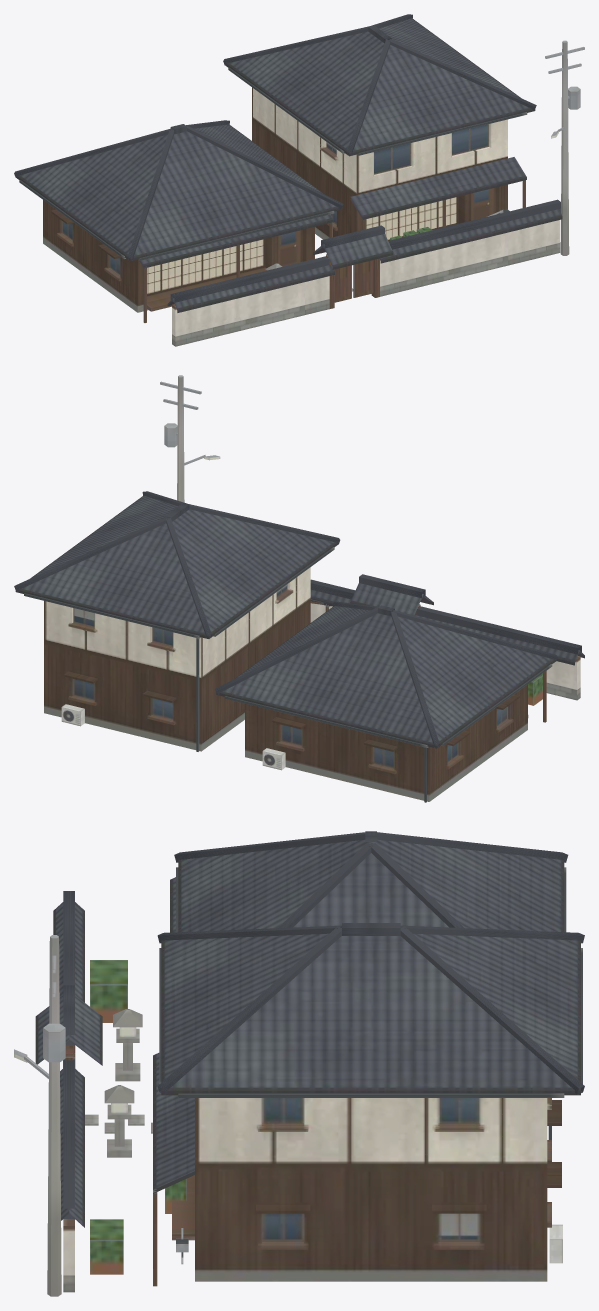
File: tokyo_house_e.glb
The picture shows the model from 3 angles, top to bottom: view 1: azimuth 30°, elevation 25°; view 2: azimuth 150°, elevation 25°; view 3: azimuth 270°, elevation 25°; orthographic projection. The views are drawn at different scales.
Visible parts, largest first — view 1: tokyo_house_e; view 2: tokyo_house_e; view 3: tokyo_house_e.
Boxes of the visible parts, <box> form: tokyo_house_e: <box>14,14,584,346</box>; tokyo_house_e: <box>14,375,584,802</box>; tokyo_house_e: <box>14,831,584,1296</box>.
Size of the model in its own units: 19.4 by 9.4 by 13.61.
Materials: 1 (1 with a texture image).
